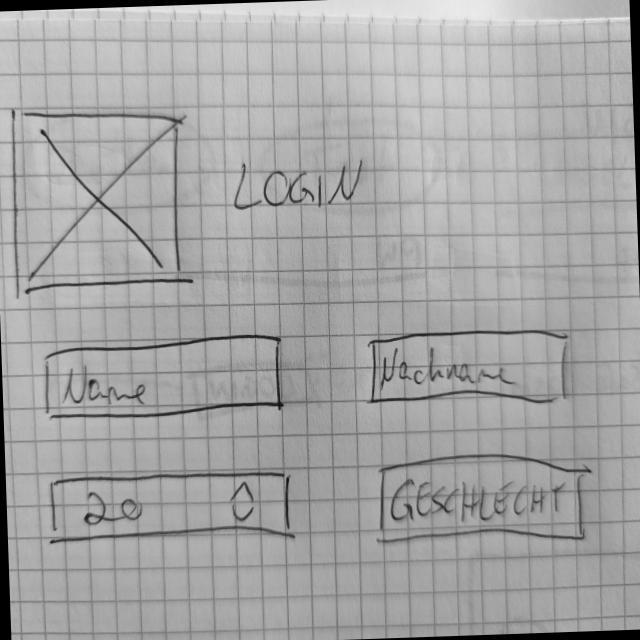image: (8, 102, 189, 295)
input: (38, 331, 289, 424), (362, 325, 572, 408)
label: (228, 154, 370, 215)
number-input: (375, 448, 588, 549), (47, 467, 296, 548)
